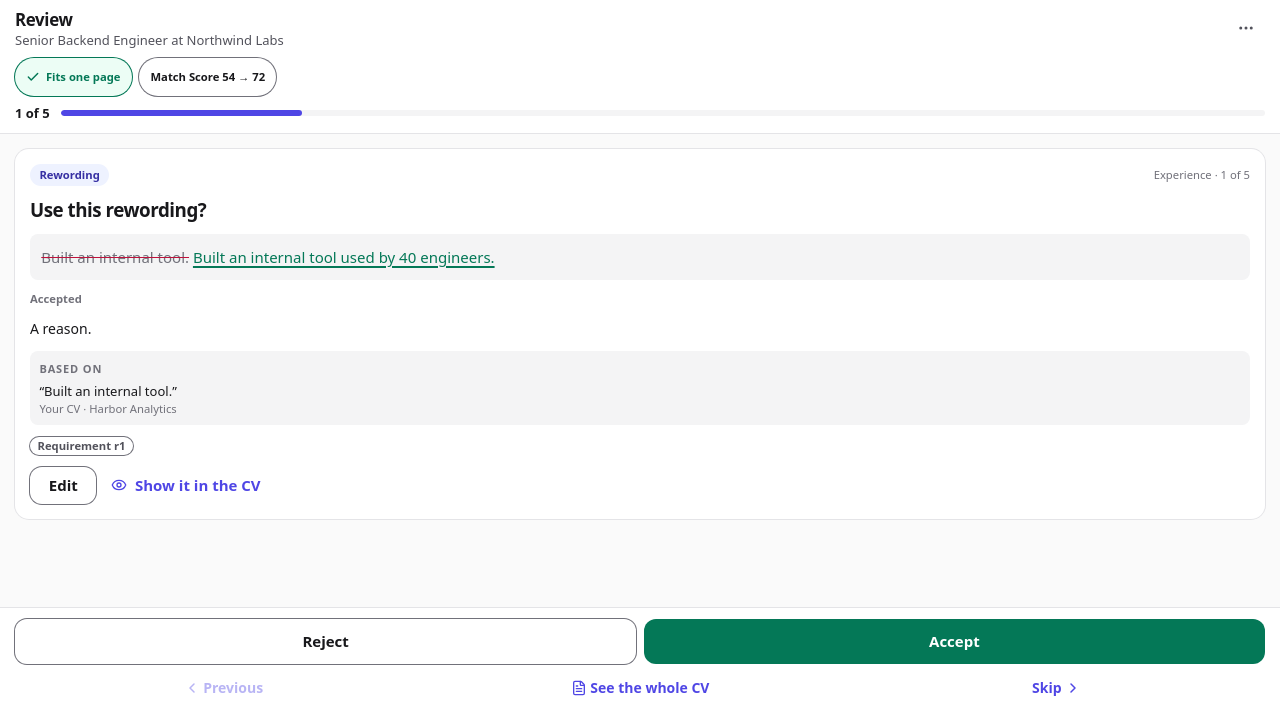
Test: Review focus mode at 390px › explains a refused drop in the whole-CV view
Click the button "See the whole CV": {"x": 640, "y": 688} [432,668,848,709]
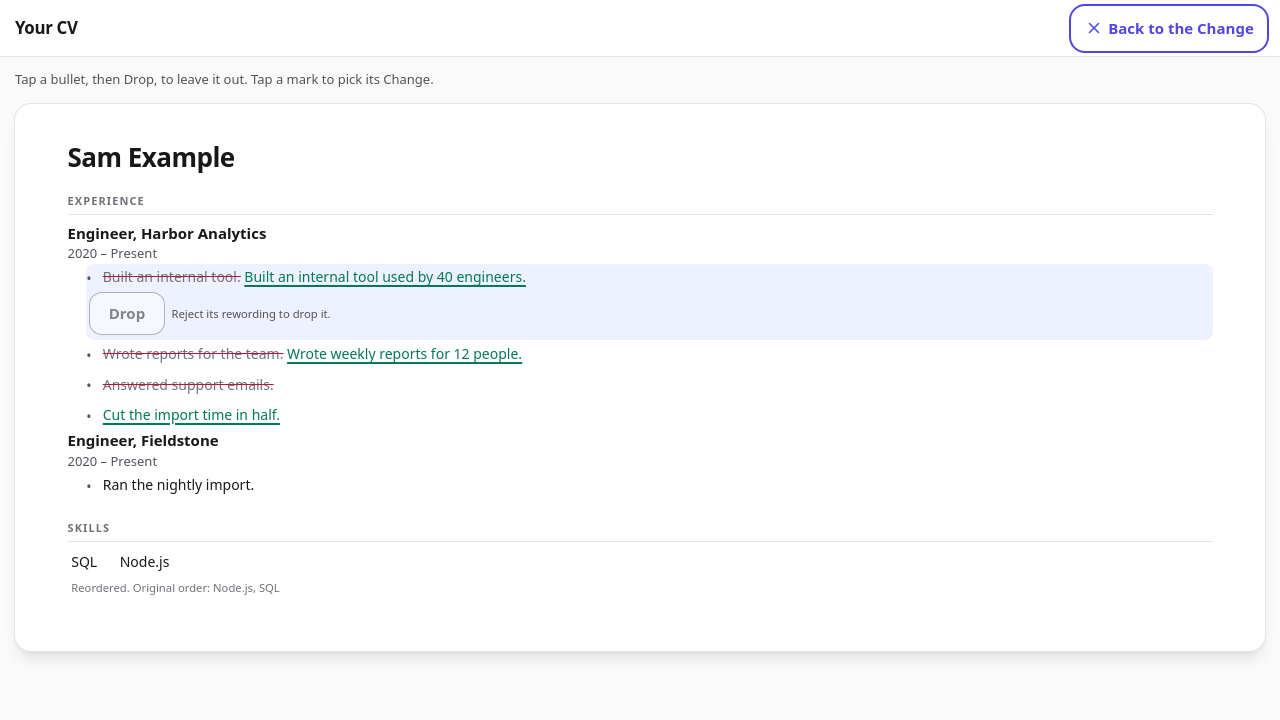
Click the button "Ran the nightly import.": {"x": 178, "y": 484} [99,472,1212,498]
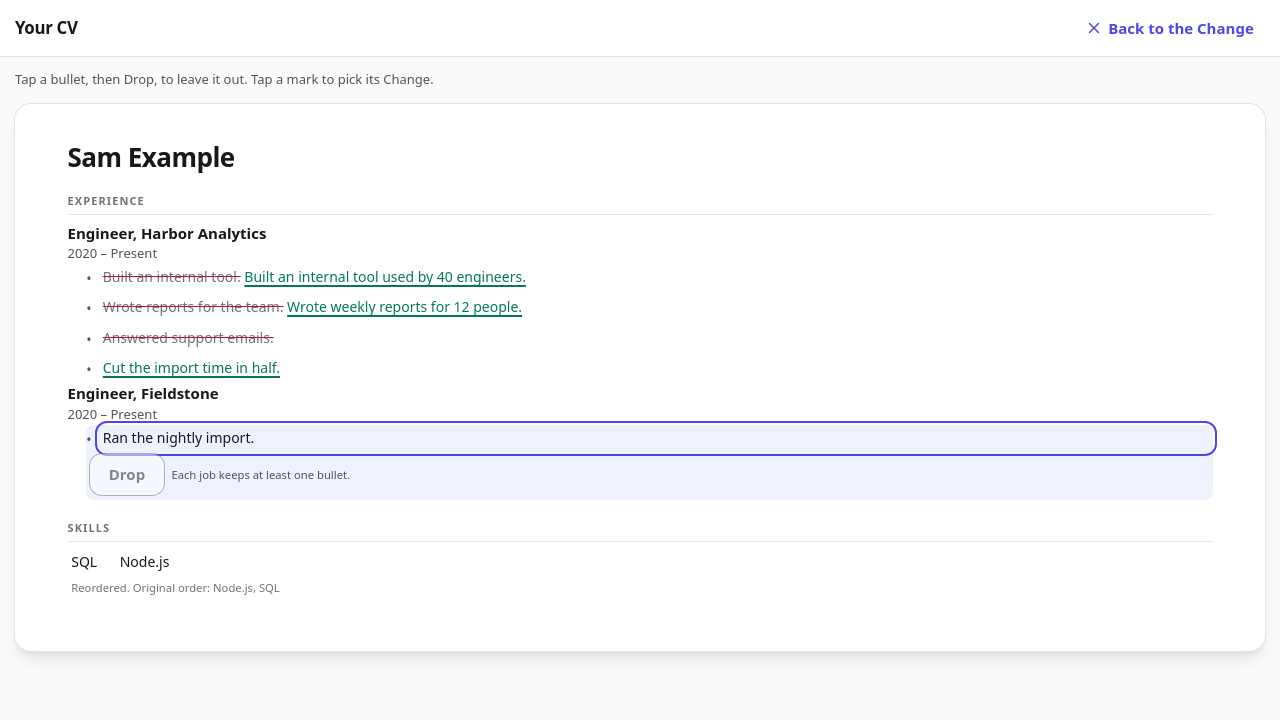
Expected: the button "Drop" is disabled, [90,454,164,495]
Expected: the text "Each job keeps at least one bullet." is shown, [171,467,350,482]
